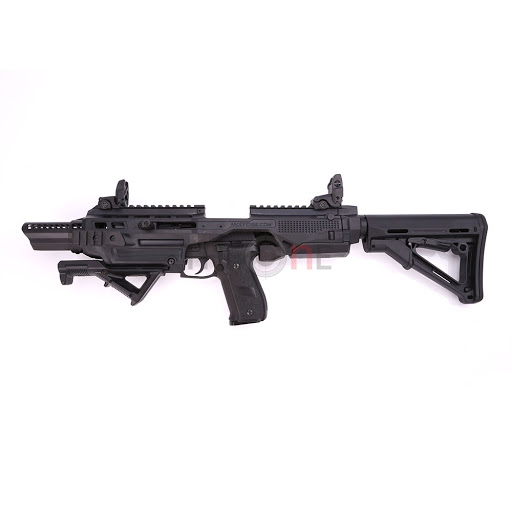gun: (16, 167, 494, 335)
